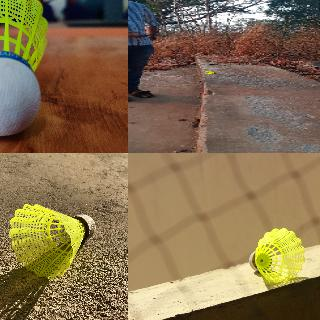shuttlecock: (0, 0, 49, 138), (9, 204, 95, 278), (249, 228, 305, 282), (204, 70, 217, 73)
